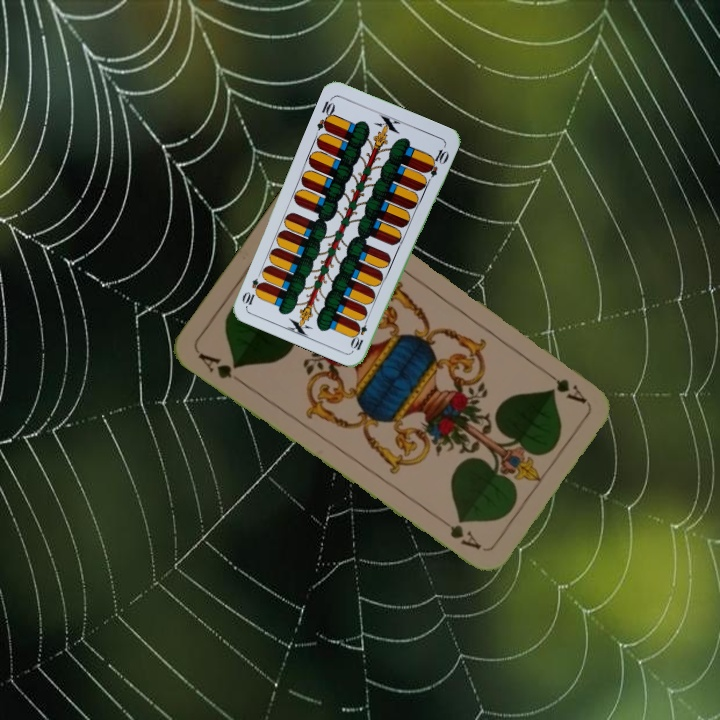E10: (313, 94, 338, 134), (348, 313, 371, 353)
GA: (538, 364, 589, 406), (194, 349, 246, 388)
